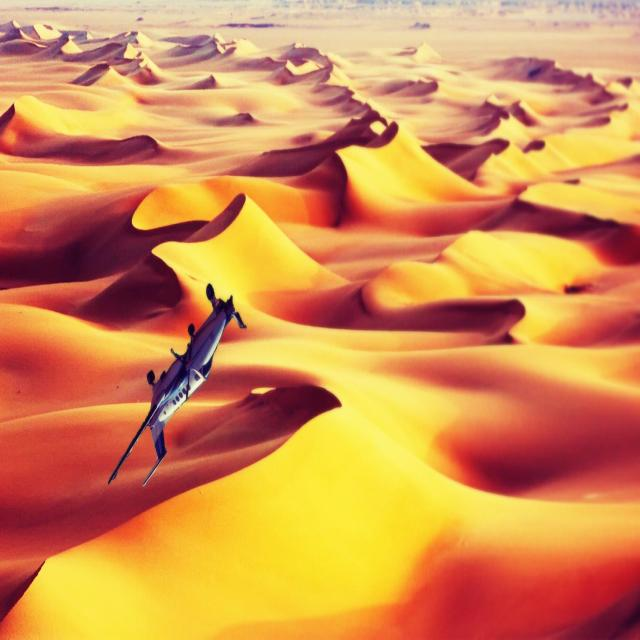airplane: (107, 282, 247, 488)
